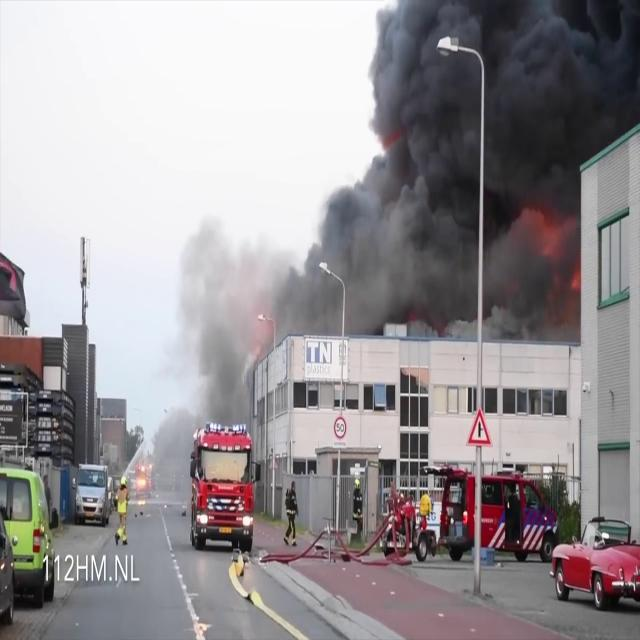Smoke: (296, 1, 638, 326), (172, 214, 306, 432)
